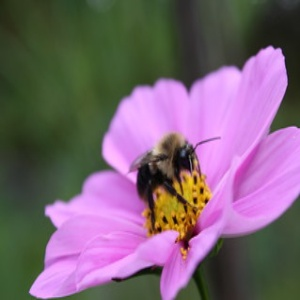bee: (126, 128, 222, 234)
